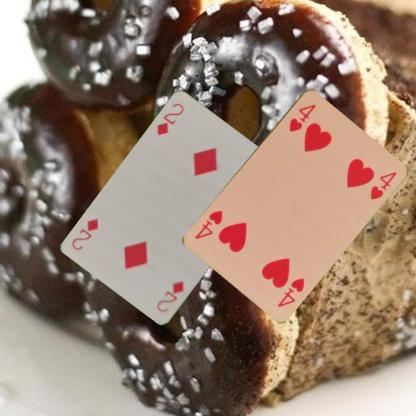2d: (154, 100, 186, 137), (154, 278, 185, 314)
4h: (274, 275, 306, 309), (286, 101, 317, 133)
